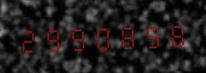eight: (161, 17, 184, 50), (113, 19, 136, 51)
nine: (41, 22, 64, 54), (65, 21, 88, 53), (137, 18, 160, 50)
two: (17, 22, 40, 55)
zero: (89, 20, 112, 52)
